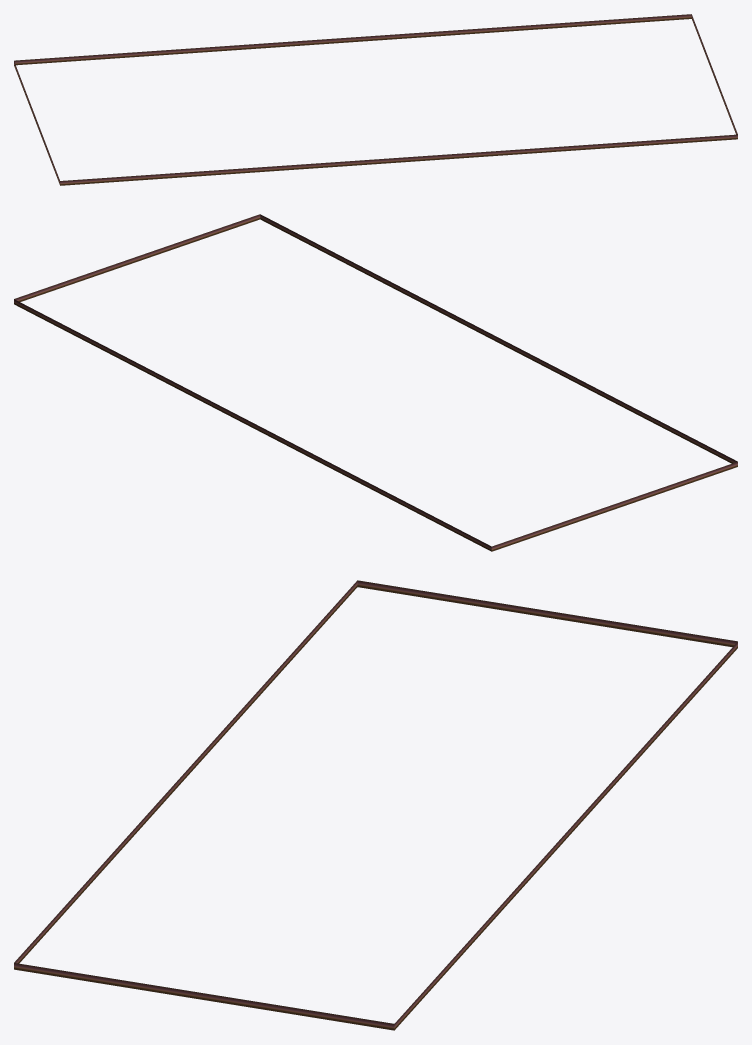
Rendered from H1_Floor2_Lat.gltf.
3 views of the same model, one above another, from view 1: azimuth 30°, elevation 25°; view 2: azimuth 150°, elevation 25°; view 3: azimuth 270°, elevation 25° (orthographic). The views are drawn at different scales.
Parts seen in each view (by area): view 1: H1_Floor2_Lat; view 2: H1_Floor2_Lat; view 3: H1_Floor2_Lat.
Boxes of the visible parts, bbox=[...] form: H1_Floor2_Lat: bbox=[14, 14, 737, 185]; H1_Floor2_Lat: bbox=[14, 214, 737, 551]; H1_Floor2_Lat: bbox=[14, 580, 737, 1030].
Bounding box in the file's own units: 46.65 × 0.3334 × 32.18.
Materials: 1 (1 with a texture image).
